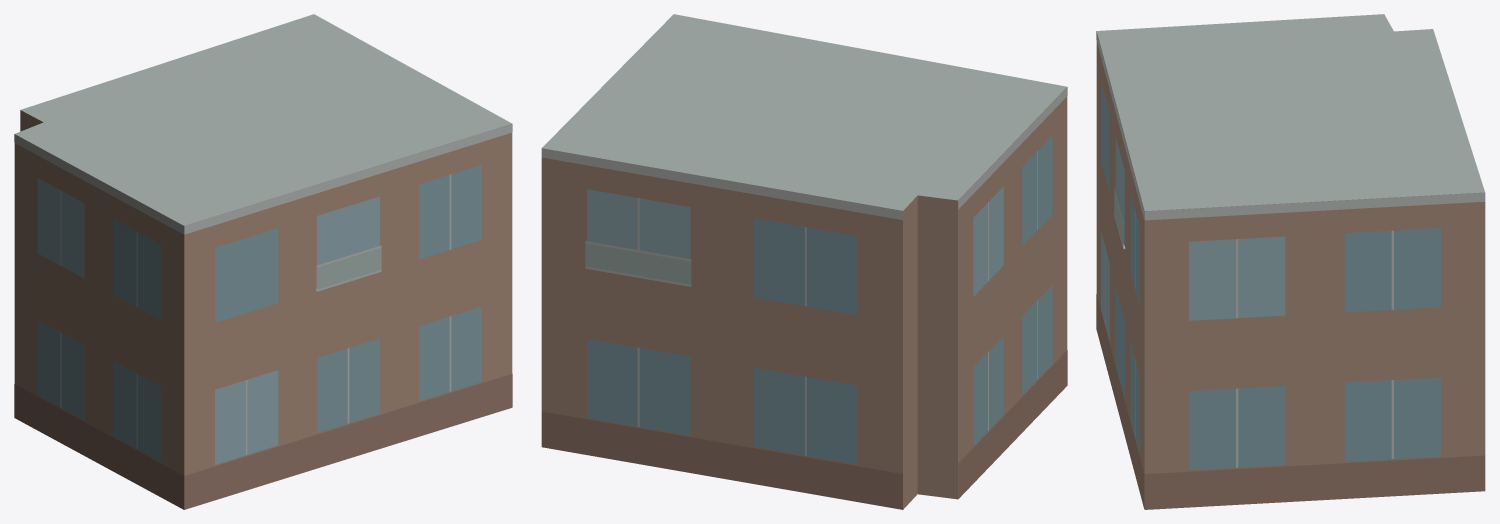
The model's file is survey-upis-32669403.glb.
3 renders of one model, left to right at view 1: azimuth 30°, elevation 25°; view 2: azimuth 150°, elevation 25°; view 3: azimuth 270°, elevation 25°, orthographic. The views are drawn at different scales.
Parts seen in each view (by area): view 1: survey-upis-32669403.tmp; view 2: survey-upis-32669403.tmp; view 3: survey-upis-32669403.tmp.
Boxes of the visible parts, <box> form: survey-upis-32669403.tmp: <box>14,14,512,509</box>; survey-upis-32669403.tmp: <box>541,14,1067,509</box>; survey-upis-32669403.tmp: <box>1096,14,1485,509</box>.
Size of the model in its own units: 11.12 by 7.85 by 9.27.
